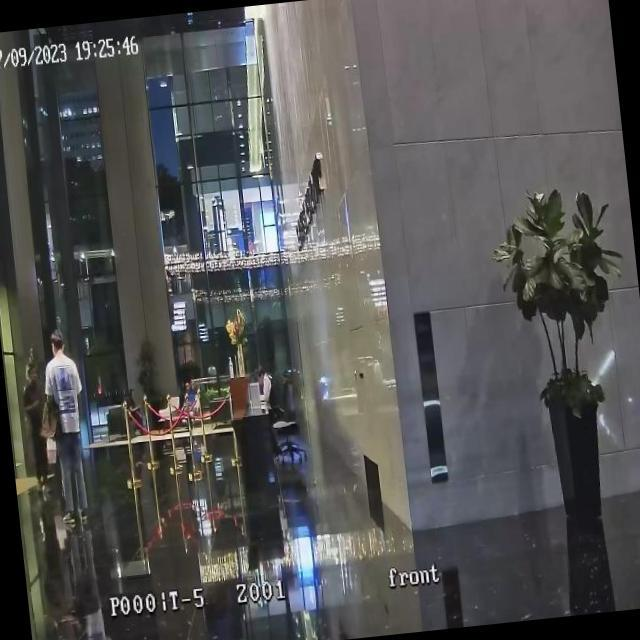person: (38, 327, 96, 528), (17, 356, 52, 494), (256, 364, 286, 459), (126, 388, 148, 438), (184, 380, 196, 410)
